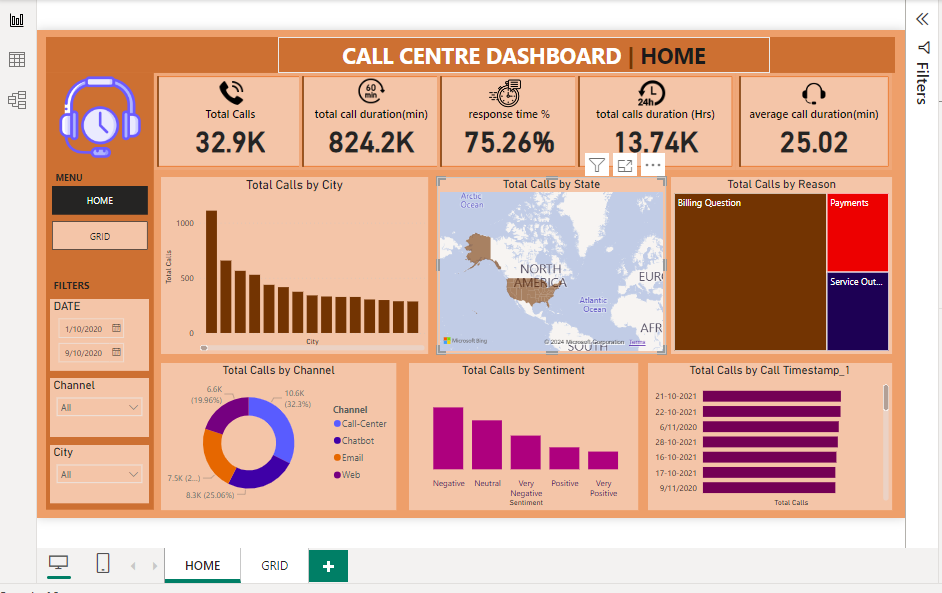

Layout of this report page (visuals, bound fields, positions):
{"tool":"powerbi","page":{"name":"HOME","canvas":[1280,720],"ordinal":0},"visuals":[{"type":"shape","box":[13.3,10.3,1252,53.1],"z":0},{"type":"shape","box":[13.3,63.4,159.3,644.4],"z":1000},{"type":"cardVisual","fields":{"Data":["Call Center_Call Center.Total Calls"]},"box":[172.5,63.4,225.6,143],"z":2000},{"type":"cardVisual","fields":{"Data":["Call Center_Call Center.total call duration(min)"]},"box":[386.4,63.4,213.8,143],"z":3000},{"type":"cardVisual","fields":{"Data":["Call Center_Call Center.response time %"]},"box":[589.9,63.4,213.8,143],"z":4000},{"type":"cardVisual","fields":{"Data":["Call Center_Call Center.total calls duration (Hrs)"]},"box":[793.4,63.4,237.4,143],"z":5000},{"type":"cardVisual","fields":{"Data":["Call Center_Call Center.average call duration(min)"]},"box":[1030.8,63.4,230,143],"z":6000},{"type":"textbox","box":[355.4,10.3,725.5,53.1],"z":7000},{"type":"columnChart","fields":{"Y":["Call Center_Call Center.Total Calls"],"Category":["Call Center_Call Center.City"]},"box":[182.9,216.8,393.7,261],"z":8000},{"type":"filledMap","fields":{"Category":["Call Center_Call Center.State"],"Y":["Call Center_Call Center.Total Calls"]},"box":[589.9,216.8,337.7,261],"z":9000},{"type":"treemap","fields":{"Group":["Call Center_Call Center.Reason"],"Values":["Call Center_Call Center.Total Calls"]},"box":[934.9,216.8,325.9,261],"z":10000},{"type":"donutChart","fields":{"Category":["Call Center_Call Center.Channel"],"Y":["Call Center_Call Center.Total Calls"]},"box":[182.9,491.1,346.5,216.8],"z":11000},{"type":"columnChart","fields":{"Category":["Call Center_Call Center.Sentiment"],"Y":["Call Center_Call Center.Total Calls"]},"box":[548.6,491.1,337.7,216.8],"z":12000},{"type":"barChart","fields":{"Y":["Call Center_Call Center.Total Calls"],"Category":["Call Center_Call Center.Call Timestamp_1"]},"box":[901,491.1,359.8,216.8],"z":13000},{"type":"slicer","title":"DATE","fields":{"Values":["Date Table.Date"]},"box":[19.2,396.7,146,106.2],"z":14000},{"type":"slicer","title":"Channel","fields":{"Values":["Call Center_Call Center.Channel"]},"box":[19.2,513.2,146,87],"z":15000},{"type":"slicer","title":"City","fields":{"Values":["Call Center_Call Center.City"]},"box":[19.2,612,146,85.5],"z":16000},{"type":"image","box":[28,63.4,129.8,129.8],"z":17000},{"type":"image","box":[256.6,67.8,59,50.1],"z":18000},{"type":"image","box":[468.9,63.4,48.7,51.6],"z":19000},{"type":"image","box":[660.6,63.4,57.5,59],"z":20000},{"type":"image","box":[877.4,67.8,57.5,50.1],"z":21000},{"type":"image","box":[1123.7,67.8,44.2,51.6],"z":22000},{"type":"pageNavigator","box":[22.1,230,141.6,95.9],"z":23000},{"type":"textbox","box":[22.1,203.5,82.6,53.1],"z":24000},{"type":"textbox","box":[19.2,361.3,73.7,35.4],"z":24001}]}

Visuals, with their boxes on the page's 1280x720 design canvas (x1, y1, x2, y2). These are canvas units, not pixel positions in the 942x593 screenshot, which may show the page scaled, cropped or inside an application window:
shape: [left=13, top=10, right=1265, bottom=63]
shape: [left=13, top=63, right=173, bottom=708]
cardVisual - Call Center_Call Center.Total Calls: [left=172, top=63, right=398, bottom=206]
cardVisual - Call Center_Call Center.total call duration(min): [left=386, top=63, right=600, bottom=206]
cardVisual - Call Center_Call Center.response time %: [left=590, top=63, right=804, bottom=206]
cardVisual - Call Center_Call Center.total calls duration (Hrs): [left=793, top=63, right=1031, bottom=206]
cardVisual - Call Center_Call Center.average call duration(min): [left=1031, top=63, right=1261, bottom=206]
textbox: [left=355, top=10, right=1081, bottom=63]
columnChart - Call Center_Call Center.Total Calls x Call Center_Call Center.City: [left=183, top=217, right=577, bottom=478]
filledMap - Call Center_Call Center.State x Call Center_Call Center.Total Calls: [left=590, top=217, right=928, bottom=478]
treemap - Call Center_Call Center.Reason x Call Center_Call Center.Total Calls: [left=935, top=217, right=1261, bottom=478]
donutChart - Call Center_Call Center.Channel x Call Center_Call Center.Total Calls: [left=183, top=491, right=529, bottom=708]
columnChart - Call Center_Call Center.Sentiment x Call Center_Call Center.Total Calls: [left=549, top=491, right=886, bottom=708]
barChart - Call Center_Call Center.Total Calls x Call Center_Call Center.Call Timestamp_1: [left=901, top=491, right=1261, bottom=708]
"DATE" slicer: [left=19, top=397, right=165, bottom=503]
"Channel" slicer: [left=19, top=513, right=165, bottom=600]
"City" slicer: [left=19, top=612, right=165, bottom=698]
image: [left=28, top=63, right=158, bottom=193]
image: [left=257, top=68, right=316, bottom=118]
image: [left=469, top=63, right=518, bottom=115]
image: [left=661, top=63, right=718, bottom=122]
image: [left=877, top=68, right=935, bottom=118]
image: [left=1124, top=68, right=1168, bottom=119]
pageNavigator: [left=22, top=230, right=164, bottom=326]
textbox: [left=22, top=204, right=105, bottom=257]
textbox: [left=19, top=361, right=93, bottom=397]
